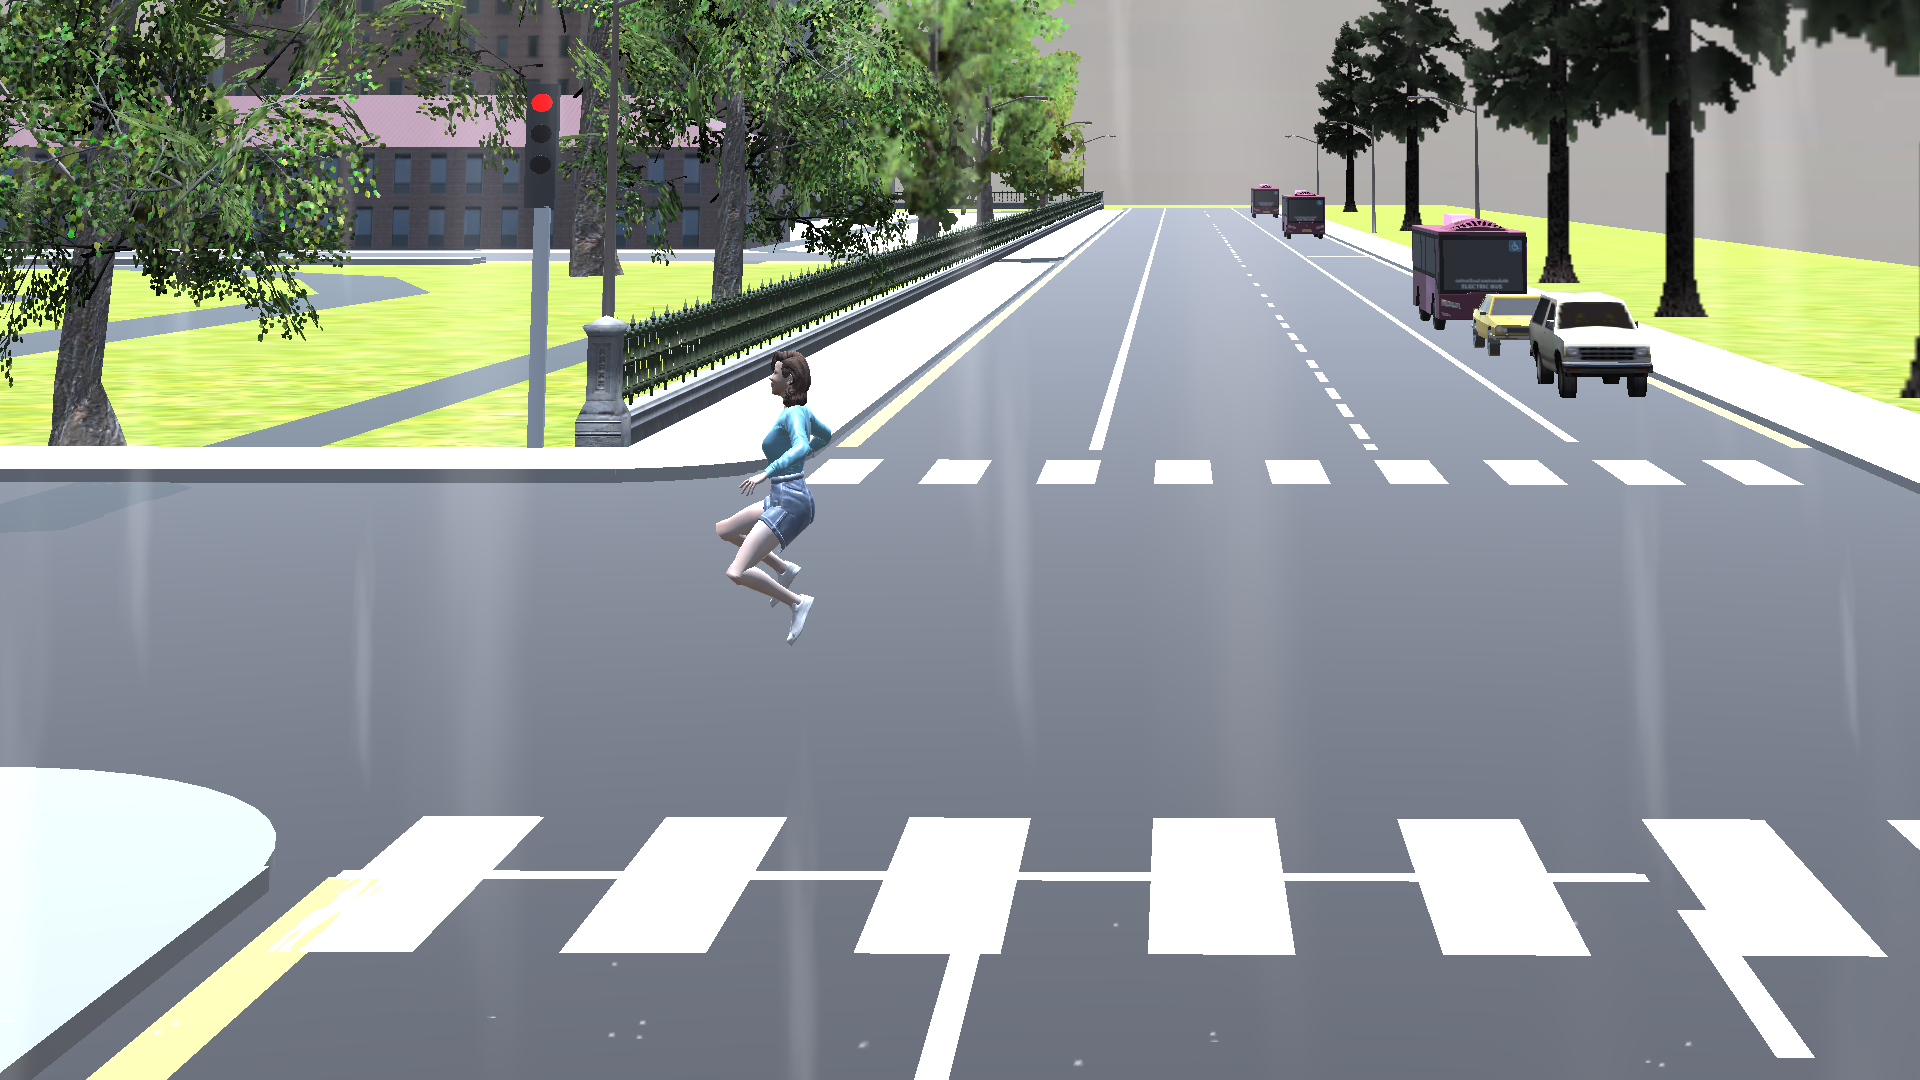pedestrian: (706, 341, 854, 653)
